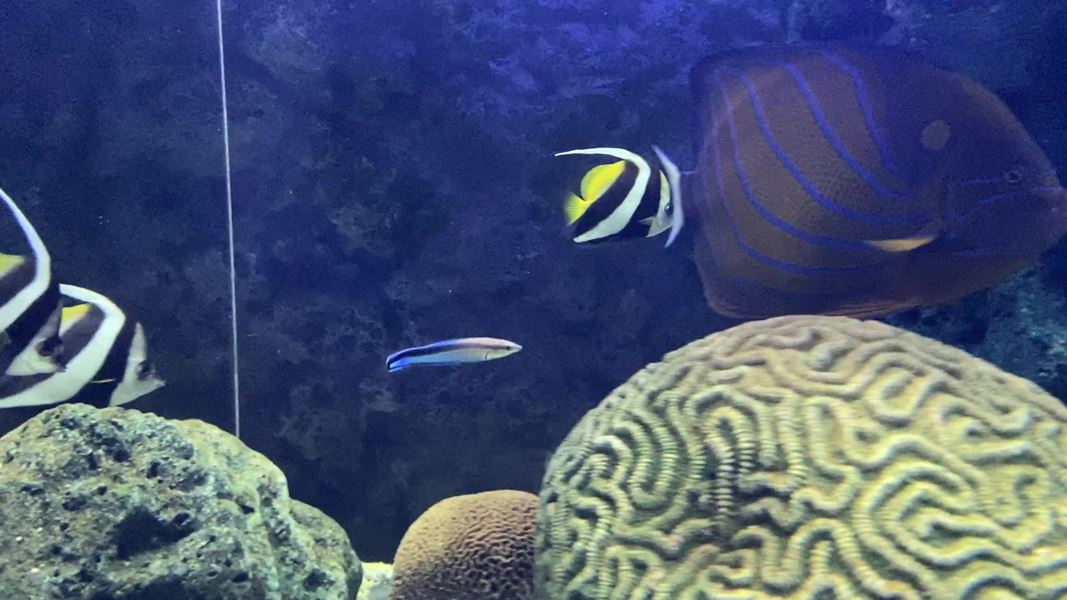Bluesteak cleaner wrasse: (370, 326, 525, 381)
